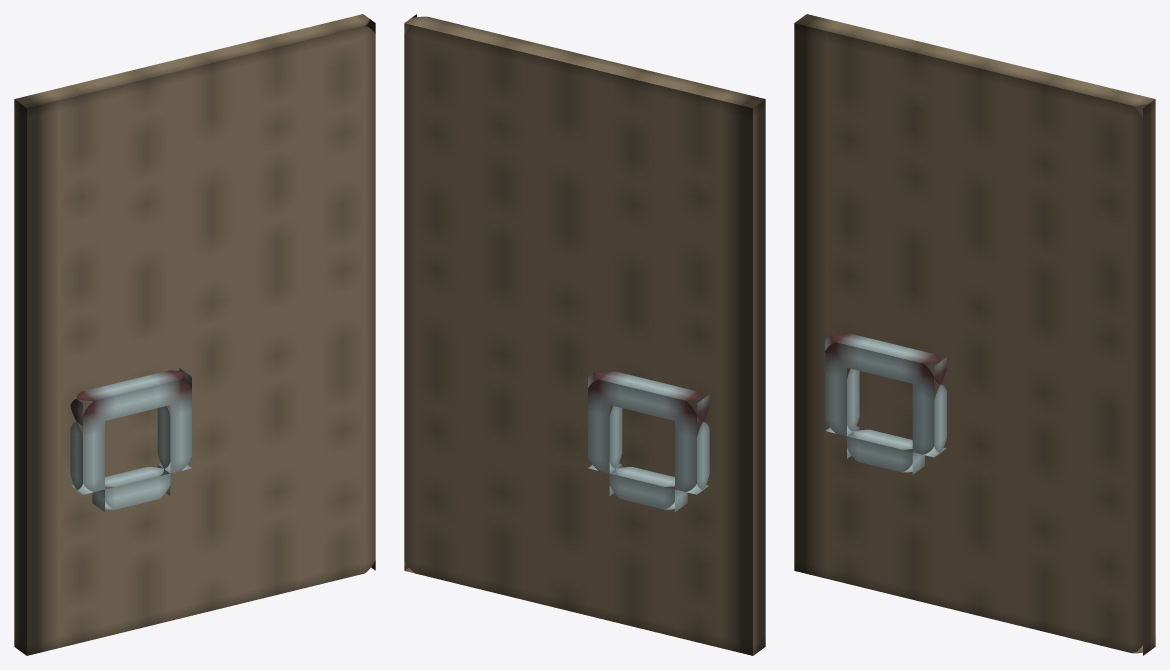
The model's file is Fortress_Door_3.fbx.
3 views of the same model, side by side, from view 1: azimuth 30°, elevation 25°; view 2: azimuth 150°, elevation 25°; view 3: azimuth 330°, elevation 25° (orthographic).
Parts seen in each view (by area): view 1: Fortress_Door_3; view 2: Fortress_Door_3; view 3: Fortress_Door_3.
Part boxes in pixels (x1,y1,x2,y2): Fortress_Door_3: (14, 14, 375, 655); Fortress_Door_3: (404, 14, 765, 655); Fortress_Door_3: (794, 14, 1155, 655).
Size of the model in its own units: 100 by 150 by 18.75.
